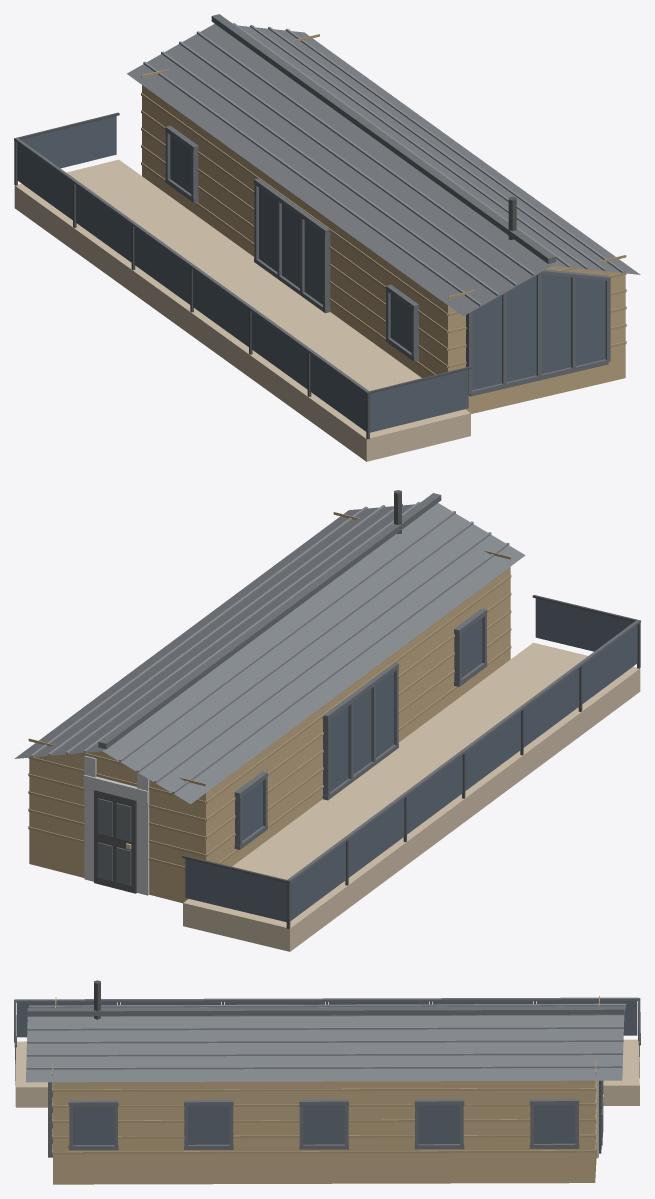
3 views of the same model, one above another, from view 1: azimuth 30°, elevation 25°; view 2: azimuth 150°, elevation 25°; view 3: azimuth 270°, elevation 25° (orthographic). The views are drawn at different scales.
Visible parts, largest first — view 1: slate, larch, door_wood, slate_dk, slate_lt, window_glass_014, door_wood_p, window_glass_008, window_glass_007, pipe, window_glass_003, window_glass_006 (+9 smaller); view 2: slate, larch, door_wood, slate_dk, slate_lt, door_wood_p, window_glass_007, stone_band, window_glass_008, door_dark_p, pipe, window_glass_005 (+11 smaller); view 3: door_wood, slate, slate_dk, slate_lt, door_wood_p, larch, window_glass_018, window_glass_015, window_glass_016, window_glass_017, window_glass_019, window_glass_001 (+4 smaller).
Part boxes in pixels (box(x1,y1,x2,y2)): slate: box(127, 24, 640, 316); larch: box(14, 159, 470, 461); door_wood: box(142, 85, 625, 413); slate_dk: box(14, 14, 610, 396); slate_lt: box(143, 23, 624, 306); window_glass_014: box(472, 274, 605, 389); door_wood_p: box(141, 34, 626, 375); window_glass_008: box(370, 370, 468, 432); window_glass_007: box(21, 116, 116, 168); pipe: box(14, 112, 516, 439); window_glass_003: box(134, 227, 190, 304); window_glass_006: box(310, 354, 366, 431); slate: box(14, 503, 525, 804); larch: box(183, 642, 640, 951); door_wood: box(29, 567, 510, 903); slate_dk: box(98, 493, 640, 882); slate_lt: box(30, 502, 509, 793); door_wood_p: box(28, 512, 511, 869); window_glass_007: box(185, 858, 286, 922); stone_band: box(83, 755, 149, 895); window_glass_008: box(535, 598, 633, 651); door_dark_p: box(97, 798, 131, 885); pipe: box(182, 490, 640, 928); window_glass_005: box(523, 668, 579, 747); door_wood: box(53, 1003, 597, 1184); slate: box(26, 1003, 626, 1082); slate_dk: box(15, 997, 638, 1157); slate_lt: box(26, 1004, 625, 1069); door_wood_p: box(52, 995, 599, 1154); larch: box(15, 1039, 639, 1107); window_glass_018: box(418, 1105, 459, 1144); window_glass_015: box(73, 1106, 114, 1145); window_glass_016: box(188, 1106, 229, 1144); window_glass_017: box(303, 1106, 344, 1144); window_glass_019: box(534, 1105, 575, 1143); window_glass_001: box(537, 1001, 637, 1035).
Size of the model in its own units: 6.63 by 4 by 13.88.
